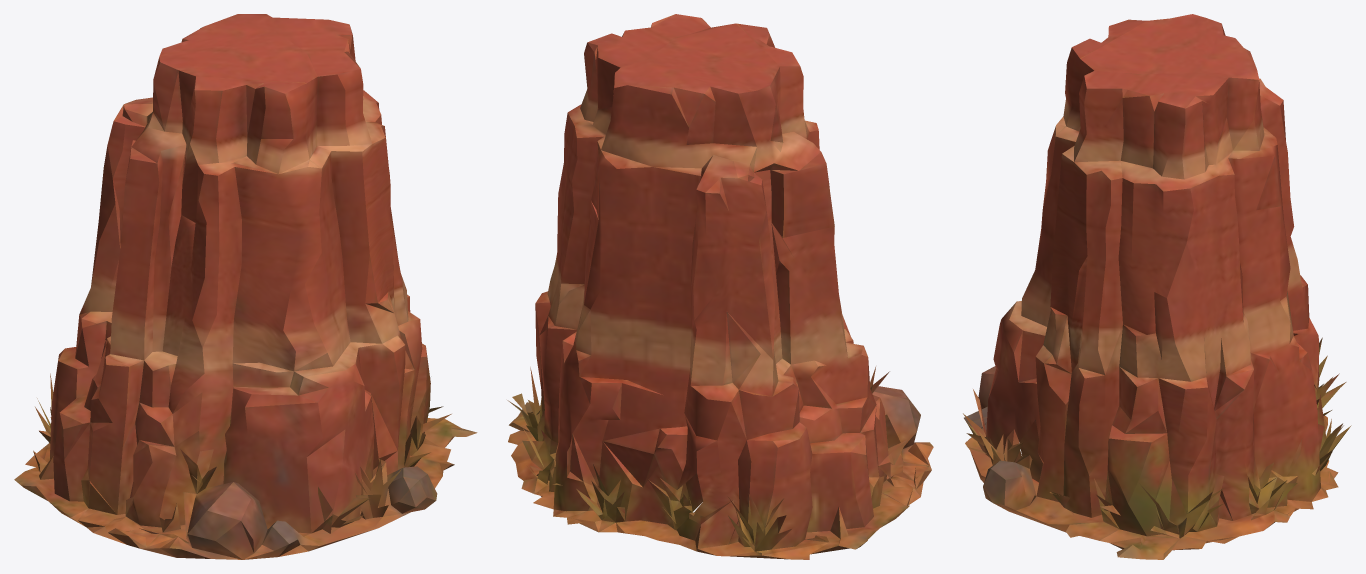
File: tree_03.glb
3 views of the same model, side by side, from view 1: azimuth 30°, elevation 25°; view 2: azimuth 150°, elevation 25°; view 3: azimuth 270°, elevation 25° (orthographic).
Parts seen in each view (by area): view 1: tree_03; view 2: tree_03; view 3: tree_03.
Part boxes in pixels (x1,y1,x2,y2): tree_03: (14, 14, 477, 559); tree_03: (507, 14, 933, 559); tree_03: (963, 14, 1351, 559).
Bounding box in the file's own units: 23.91 × 24 × 20.43.
1 material, 1 textured.
